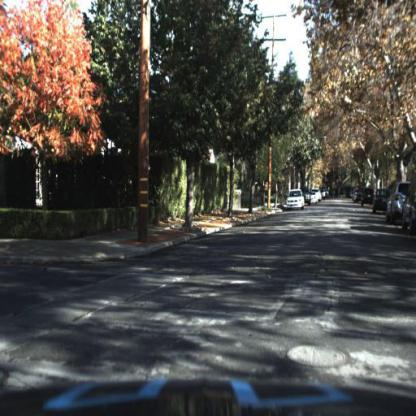car: (286, 188, 307, 215), (287, 190, 306, 210), (302, 186, 313, 210), (310, 190, 321, 208)
